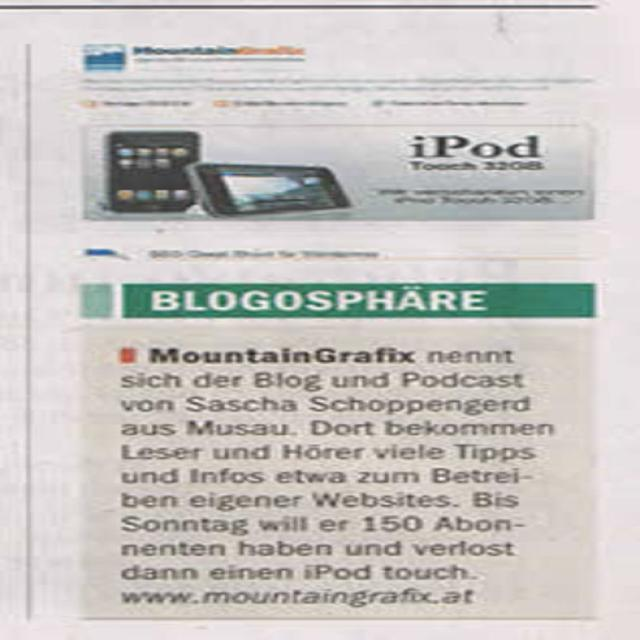Mobile-phone: (190, 162, 354, 218), (99, 130, 206, 212)
